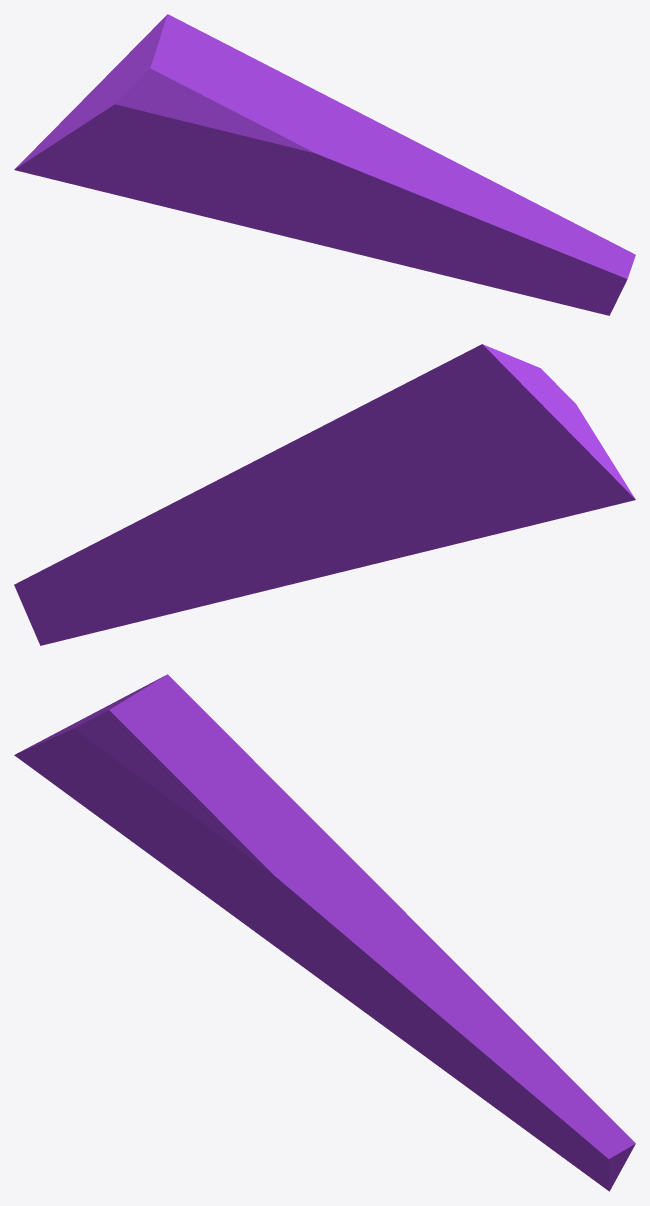
Rendered from Glass_79_15_chunks.fbx.
3 views of the same model, one above another, from view 1: azimuth 30°, elevation 25°; view 2: azimuth 150°, elevation 25°; view 3: azimuth 330°, elevation 25° (orthographic).
Visible parts, largest first — view 1: Glass_79_15_0; view 2: Glass_79_15_0; view 3: Glass_79_15_0.
Boxes of the visible parts, box(x1,y1,x2,y2) form: Glass_79_15_0: box(14, 14, 635, 315); Glass_79_15_0: box(14, 344, 635, 645); Glass_79_15_0: box(14, 674, 635, 1191).
Size of the model in its own units: 476 by 299 by 27.2.
